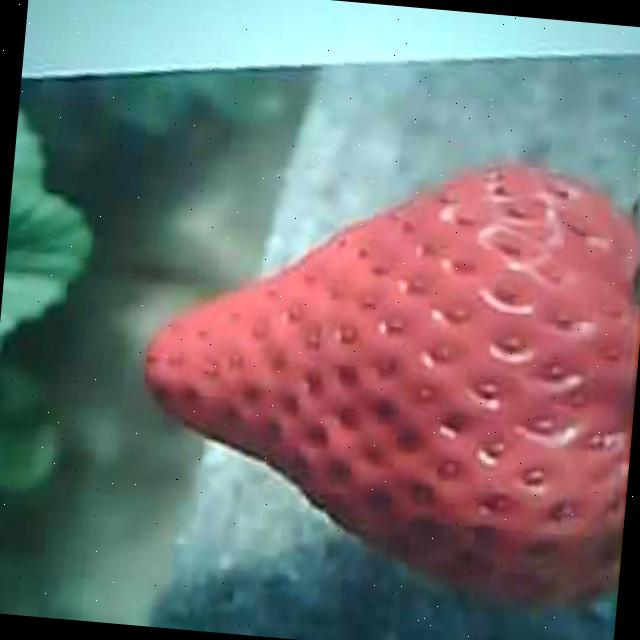strawberry: (127, 137, 640, 604)
